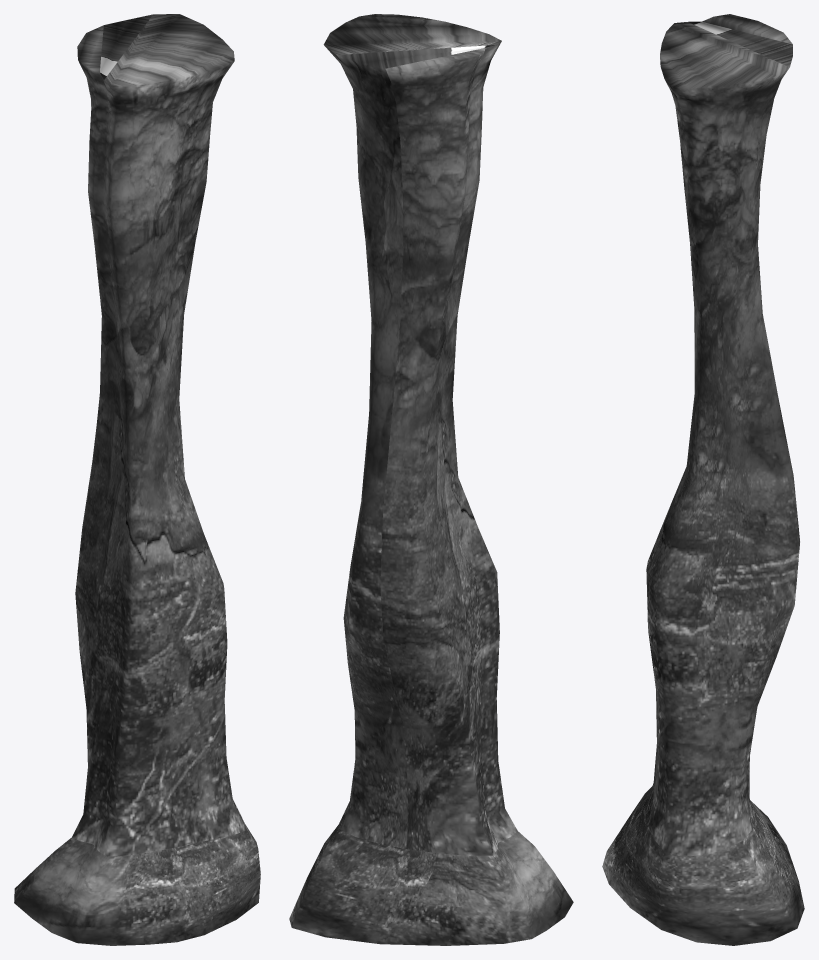
The model's file is rockformation2.obj.
3 views of the same model, side by side, from view 1: azimuth 30°, elevation 25°; view 2: azimuth 150°, elevation 25°; view 3: azimuth 270°, elevation 25° (orthographic). The views are drawn at different scales.
Parts seen in each view (by area): view 1: rockformation2; view 2: rockformation2; view 3: rockformation2.
Boxes of the visible parts, x1=… form: rockformation2: x1=14, y1=14, x2=260, y2=945; rockformation2: x1=289, y1=14, x2=573, y2=945; rockformation2: x1=602, y1=14, x2=804, y2=945.
Size of the model in its own units: 102 by 378 by 81.34.
1 material, 1 textured.
